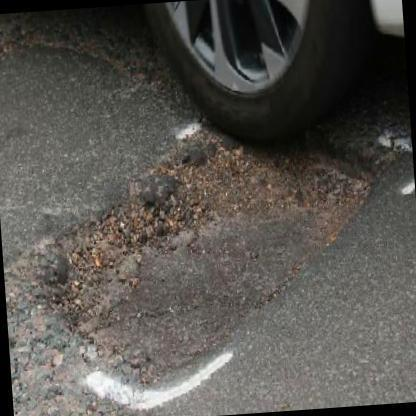pothole: (25, 111, 378, 387)
